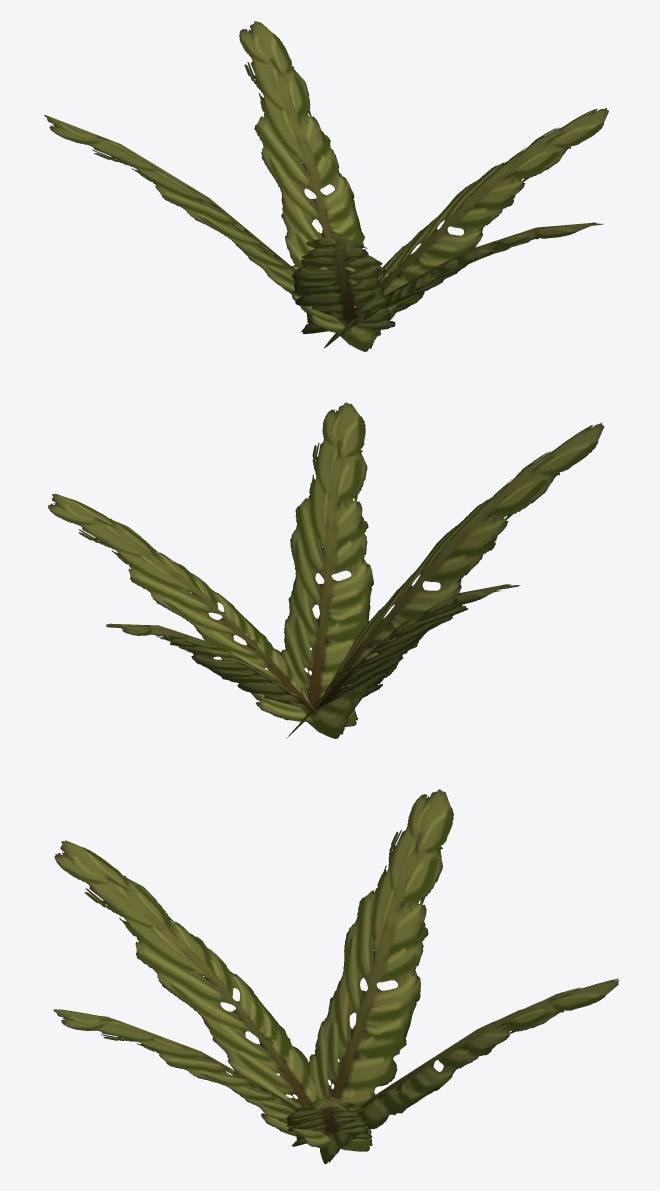
File: PalmFrond3.fbx
3 renders of one model, top to bottom at view 1: azimuth 30°, elevation 25°; view 2: azimuth 150°, elevation 25°; view 3: azimuth 270°, elevation 25°, orthographic. The views are drawn at different scales.
Visible parts, largest first — view 1: pPlane146; view 2: pPlane146; view 3: pPlane146.
Part boxes in pixels (x1=…): pPlane146: x1=44, y1=21, x2=608, y2=351; pPlane146: x1=48, y1=402, x2=604, y2=738; pPlane146: x1=53, y1=789, x2=619, y2=1164.
Bounding box in the file's own units: 1.26 × 0.5587 × 1.26.
